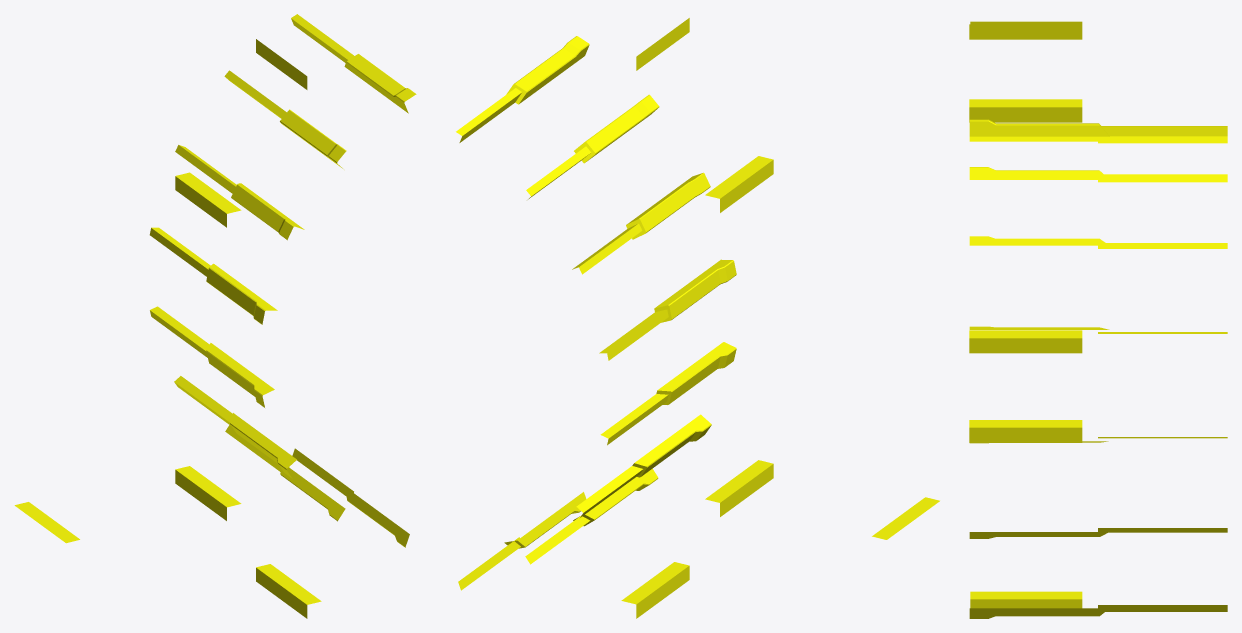
Rendered from columns1.gltf.
The picture shows the model from 3 angles, left to right: view 1: azimuth 30°, elevation 25°; view 2: azimuth 150°, elevation 25°; view 3: azimuth 270°, elevation 25°; orthographic projection. The views are drawn at different scales.
Visible parts, largest first — view 1: Box131; view 2: Box131; view 3: Box131.
Part boxes in pixels (<box>): Box131: <box>14,14,416,618</box>; Box131: <box>456,18,939,618</box>; Box131: <box>969,21,1227,618</box>.
Bounding box in the file's own units: 42.57 × 61.86 × 24.44.
Materials: 1 (1 with a texture image).
